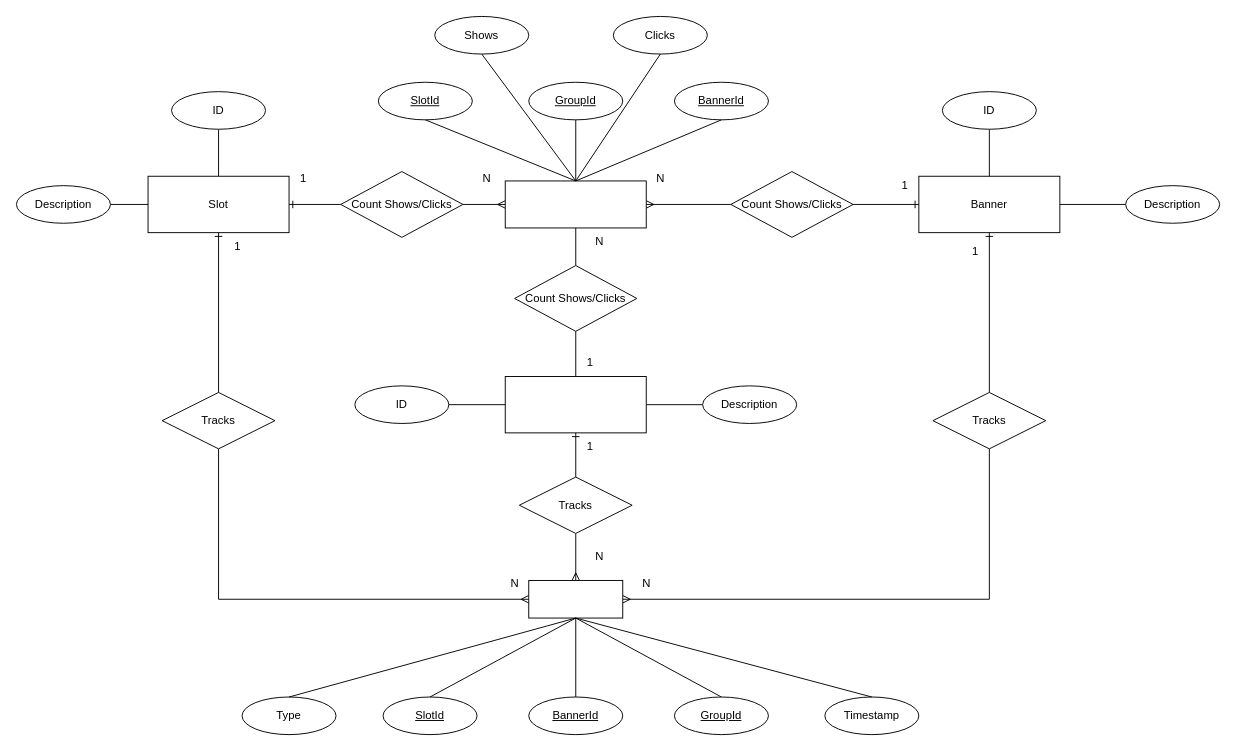
Image size: 1236x751. Some labels were removed from this diagram. Each missing label, with the centre of its shape:
"BannerStat" goes at (575,204).
"RotationEvent" goes at (575,599).
"SocialDemographicGroup" goes at (575,404).
